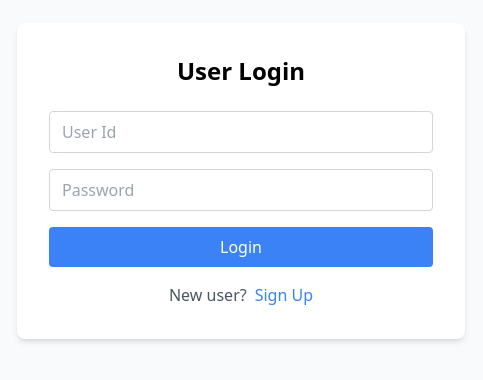
Test: Login Component › should display invalid message for wrong credentials
The width and height of the screenshot is (483, 380).
Type "hello" into the field with placeholder "User Id".
click(241, 132); type("hello")  # box [49,111,433,153]
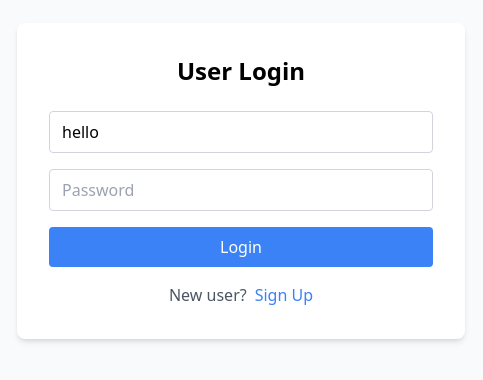
Type "admin123" into the password field with placeholder "Password".
click(241, 190); type("admin123")  # box [49,169,433,211]
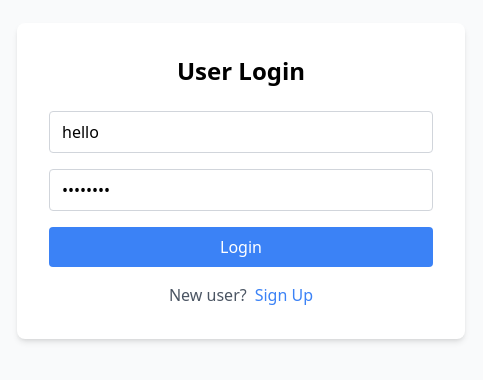
Click the button "Login".
click(241, 247)  # box [49,227,433,267]
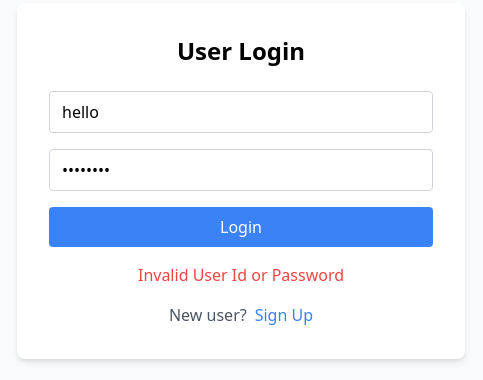
Check: the text "Invalid User Id or Password" is shown, box [138,264,344,286]
